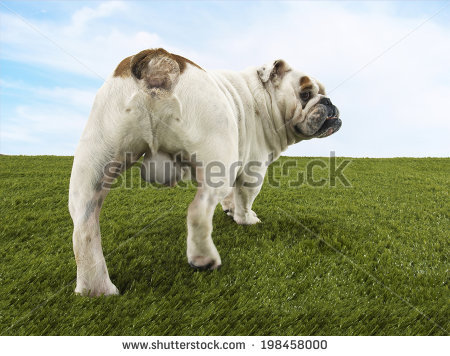dog: (67, 52, 347, 299)
